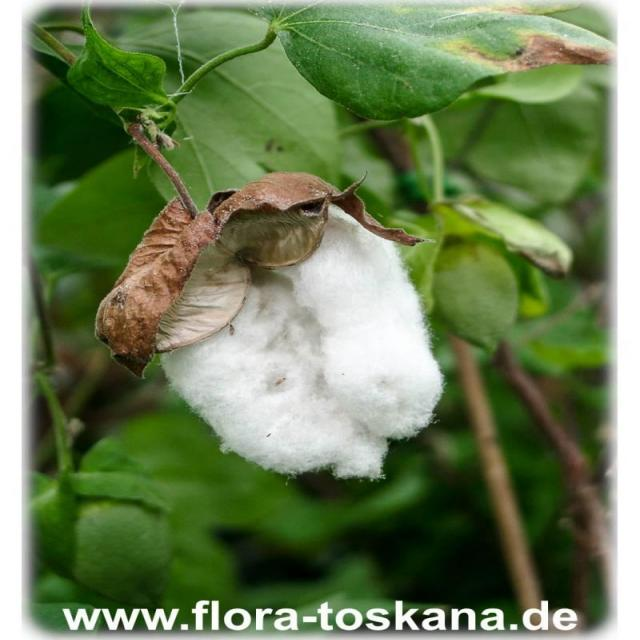Early_blight: (76, 150, 468, 498)
